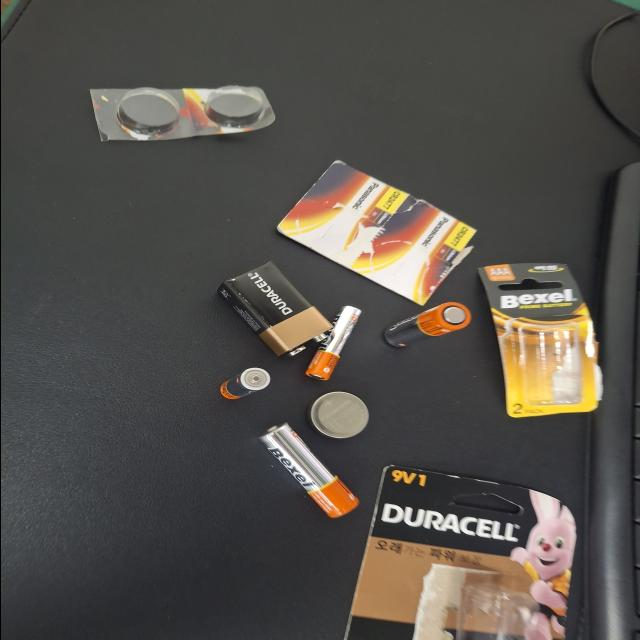9V: (167, 163, 290, 248)
AA: (0, 194, 76, 268), (178, 288, 236, 352)
AAA: (133, 228, 232, 270), (108, 164, 150, 202)
COIN: (56, 232, 118, 276)
